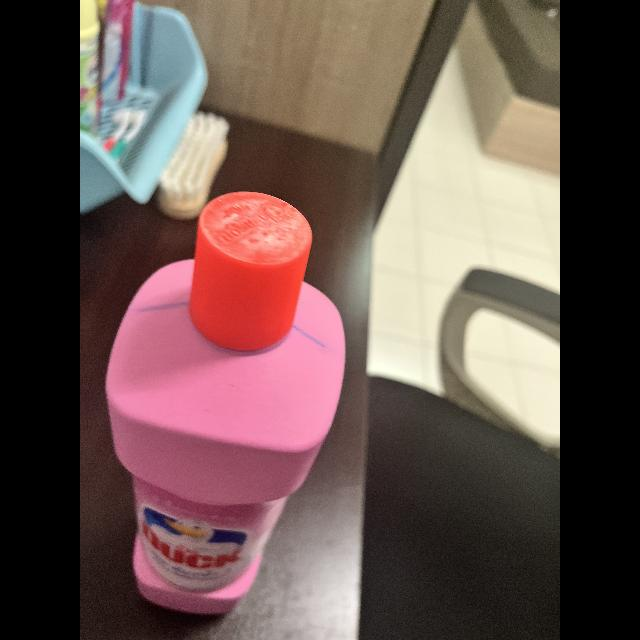chemical_plastic_bottle: (109, 190, 343, 614)
